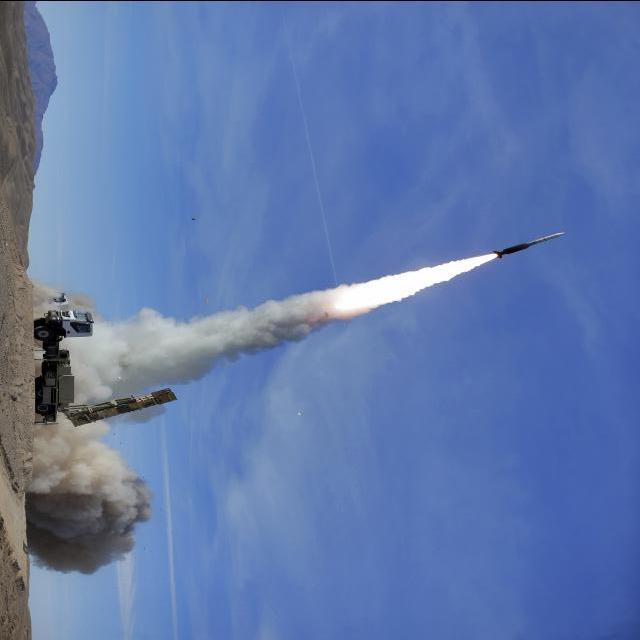Missile: (474, 220, 565, 261)
